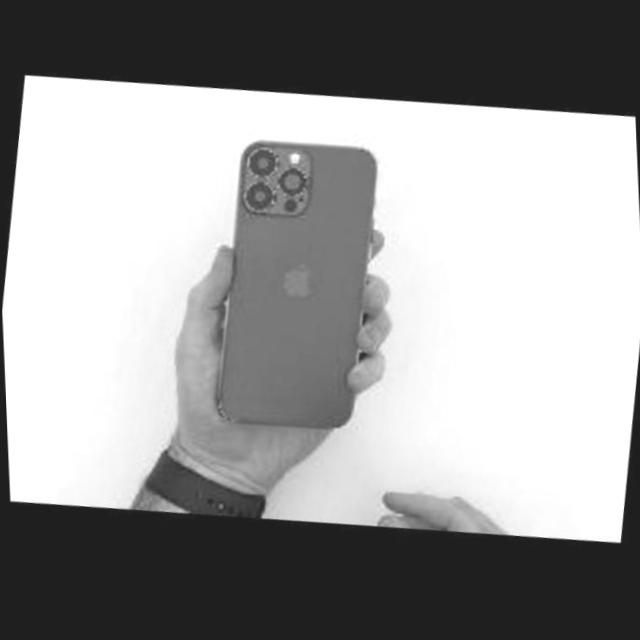Smartphone: (203, 135, 383, 438)
